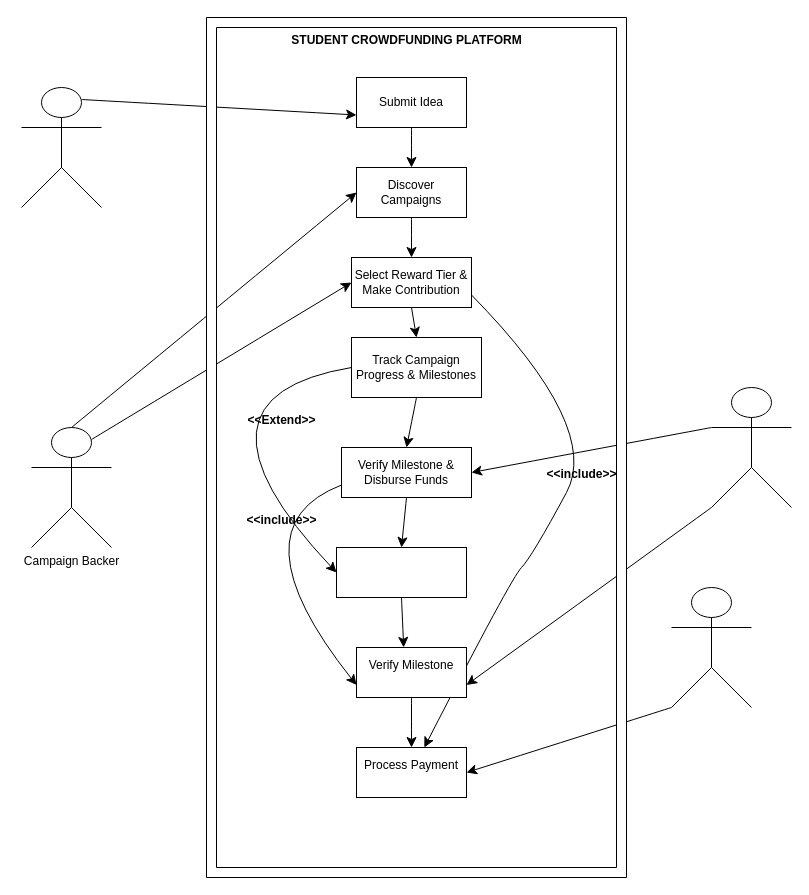
Image size: 809x895. Some labels were removed from this diagram. Here are the shapes that lost their labels. From the top down, the box of each, then its label:
(20, 86, 102, 208): Student Founder
(710, 386, 792, 508): Admin
(336, 546, 466, 598): View fund release status
(670, 586, 752, 708): Payment Gateway
